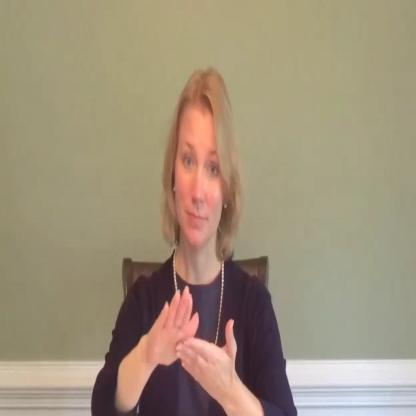NiceToMeetYou: (92, 66, 302, 416)
